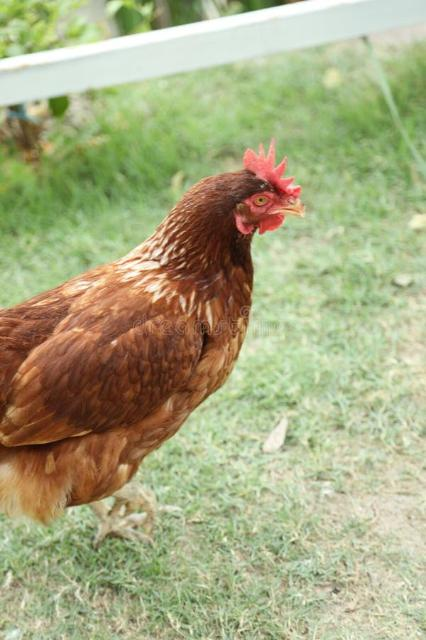Chicken: (0, 141, 309, 543)
